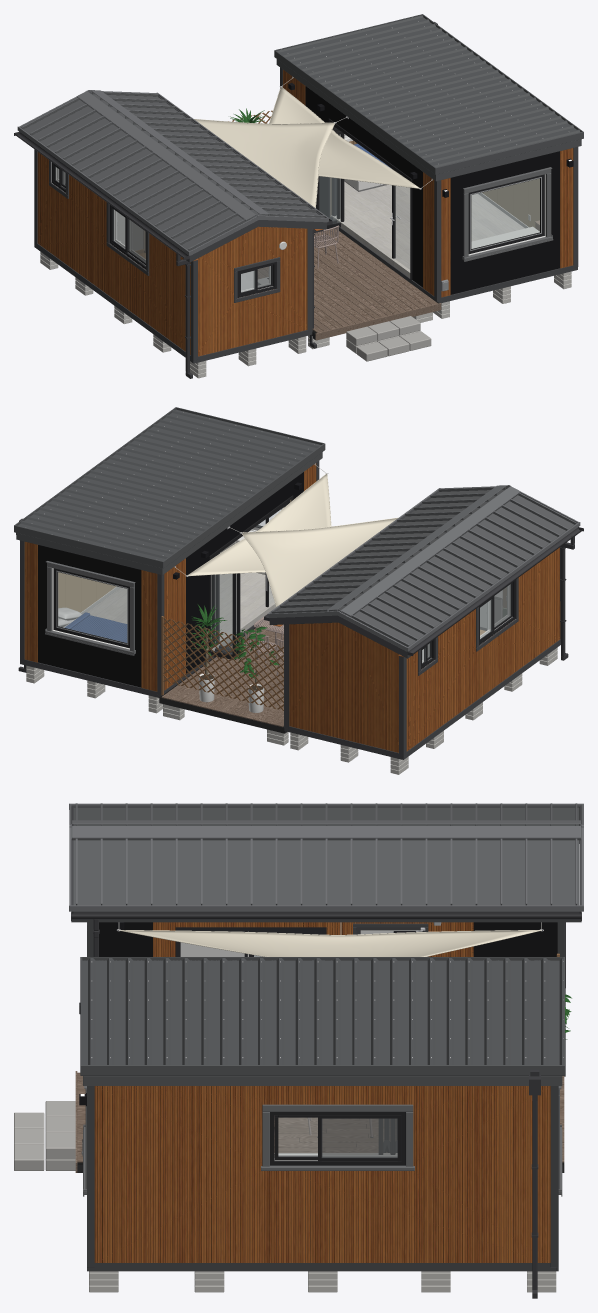
File: twin-10.glb
3 renders of one model, top to bottom at view 1: azimuth 30°, elevation 25°; view 2: azimuth 150°, elevation 25°; view 3: azimuth 270°, elevation 25°, orthographic. The views are drawn at different scales.
Parts seen in each view (by area): view 1: 지붕_TD_RoofSheetSilver, TD_WoodSiding, 지붕_TD_Zinc, TD_BlackSiding, TD_SailWhite, TD_TrimGray, TD_DeckEmboss, TD_GlassFix, 지붕_TD_ZincTrim, TD_FloorGray, 지붕_TD_SeamCap, TD_FrameBlack (+12 smaller); view 2: TD_WoodSiding, 지붕_TD_RoofSheetSilver, 지붕_TD_Zinc, TD_BlackSiding, TD_SailWhite, TD_TrimGray, TD_GlassFix, 지붕_TD_ZincTrim, TD_FenceWood, TD_DeckEmboss, 지붕_TD_SeamCap, TD_FloorGray (+14 smaller); view 3: TD_WoodSiding, 지붕_TD_RoofSheetSilver, 지붕_TD_Zinc, 지붕_TD_ZincTrim, TD_TrimGray, TD_SailWhite, 지붕_TD_SeamCap, TD_GlassFix, TD_DeckEmboss, 지붕_TD_Gutter, TD_BlackSiding, TD_StepBlock (+7 smaller).
Part boxes in pixels (x1,y1,x2,y2): 지붕_TD_RoofSheetSilver: (274, 14, 583, 181); TD_WoodSiding: (37, 70, 573, 356); 지붕_TD_Zinc: (22, 92, 324, 250); TD_BlackSiding: (305, 86, 559, 294); TD_SailWhite: (194, 86, 420, 207); TD_TrimGray: (19, 67, 578, 363); TD_DeckEmboss: (258, 228, 441, 340); TD_GlassFix: (55, 134, 539, 292); 지붕_TD_ZincTrim: (17, 90, 328, 255); TD_FloorGray: (331, 179, 524, 277); 지붕_TD_SeamCap: (21, 91, 324, 249); TD_FrameBlack: (316, 118, 544, 279); TD_WoodSiding: (24, 463, 560, 752); 지붕_TD_RoofSheetSilver: (14, 407, 325, 574); 지붕_TD_Zinc: (271, 487, 575, 646); TD_BlackSiding: (38, 472, 303, 687); TD_SailWhite: (187, 473, 398, 606); TD_TrimGray: (20, 461, 578, 759); TD_GlassFix: (58, 508, 510, 662); 지붕_TD_ZincTrim: (267, 485, 580, 651); TD_FenceWood: (161, 616, 283, 710); TD_DeckEmboss: (161, 621, 283, 727); 지붕_TD_SeamCap: (271, 487, 576, 645); TD_FloorGray: (87, 572, 275, 651); TD_WoodSiding: (94, 922, 550, 1262); 지붕_TD_RoofSheetSilver: (80, 957, 564, 1085); 지붕_TD_Zinc: (73, 807, 579, 905); 지붕_TD_ZincTrim: (69, 803, 583, 911); TD_TrimGray: (71, 806, 581, 1271); TD_SailWhite: (118, 930, 541, 956); 지붕_TD_SeamCap: (75, 803, 577, 904); TD_GlassFix: (254, 955, 397, 1157); TD_DeckEmboss: (75, 1071, 564, 1172); 지붕_TD_Gutter: (71, 912, 581, 1100); TD_BlackSiding: (99, 922, 557, 1165); TD_StepBlock: (14, 1101, 75, 1170).
Bounding box in the file's own units: 9.41 × 3.42 × 7.55.
112 materials, 14 textured.
